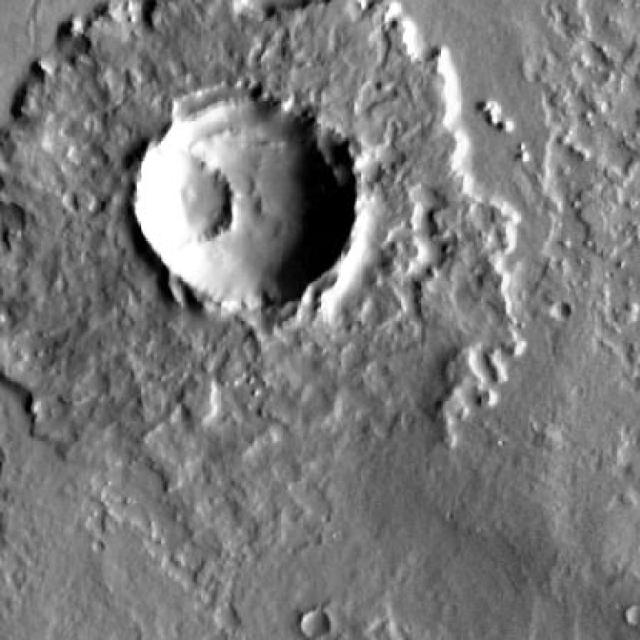crater: (134, 100, 354, 309), (129, 157, 228, 251), (298, 612, 327, 640), (548, 304, 568, 324)
